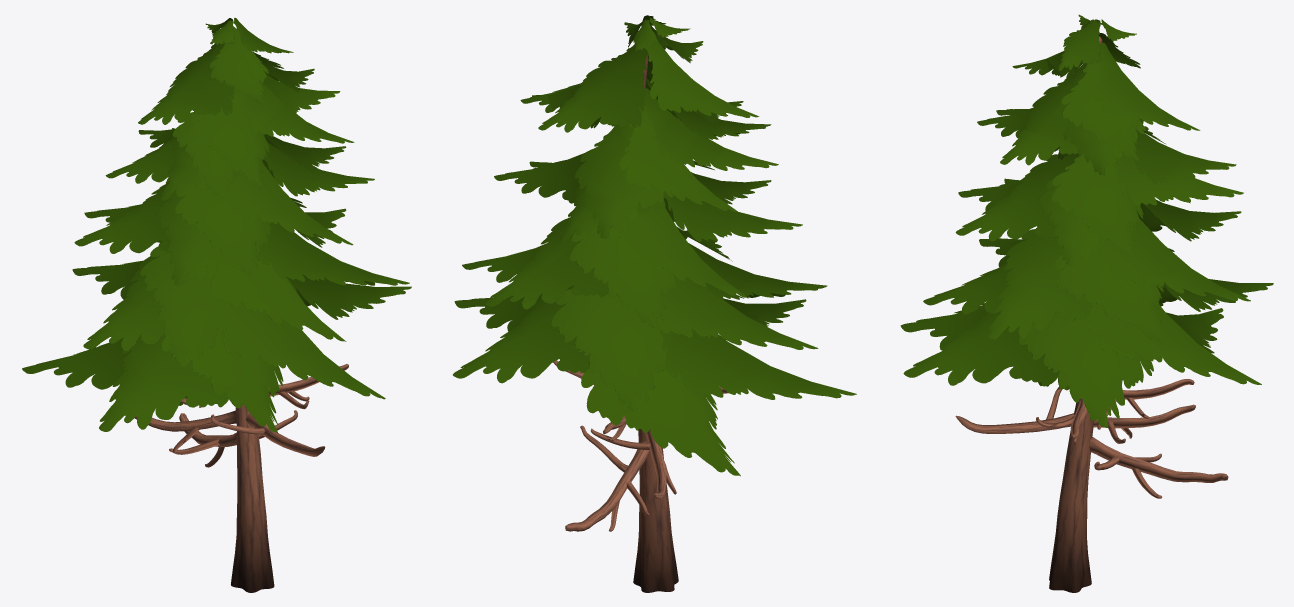
File: Pine_1.gltf
3 renders of one model, left to right at view 1: azimuth 30°, elevation 25°; view 2: azimuth 150°, elevation 25°; view 3: azimuth 270°, elevation 25°, orthographic. The views are drawn at different scales.
Parts seen in each view (by area): view 1: Pine_1; view 2: Pine_1; view 3: Pine_1.
Part boxes in pixels (x1,y1,x2,y2): Pine_1: (22,18,411,592); Pine_1: (453,15,856,592); Pine_1: (900,14,1273,592).
Bounding box in the file's own units: 4.94 × 7.32 × 4.54.
Materials: 2 (2 with a texture image).
